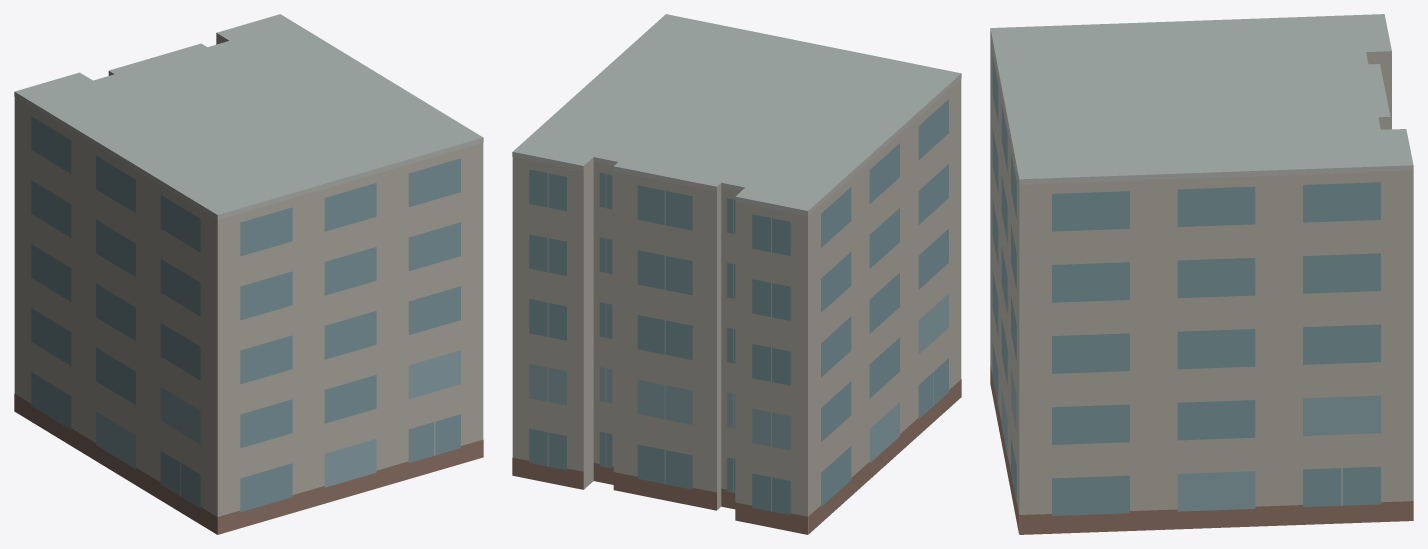
The model's file is survey-upis-32742736.glb.
3 views of the same model, side by side, from view 1: azimuth 30°, elevation 25°; view 2: azimuth 150°, elevation 25°; view 3: azimuth 270°, elevation 25° (orthographic). The views are drawn at different scales.
Parts seen in each view (by area): view 1: survey-upis-32742736.tmp; view 2: survey-upis-32742736.tmp; view 3: survey-upis-32742736.tmp.
Part boxes in pixels (bbox=[...]): survey-upis-32742736.tmp: bbox=[14, 14, 483, 534]; survey-upis-32742736.tmp: bbox=[512, 14, 961, 534]; survey-upis-32742736.tmp: bbox=[990, 14, 1413, 534].
Size of the model in its own units: 15.36 by 15.4 by 16.62.
